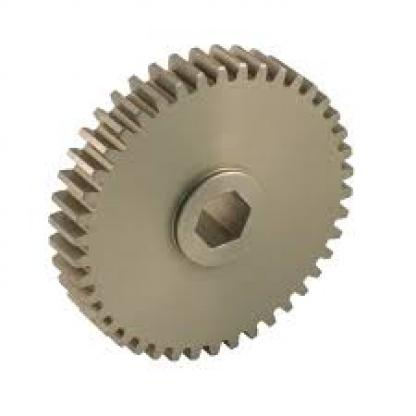FOD: (35, 31, 350, 368)
